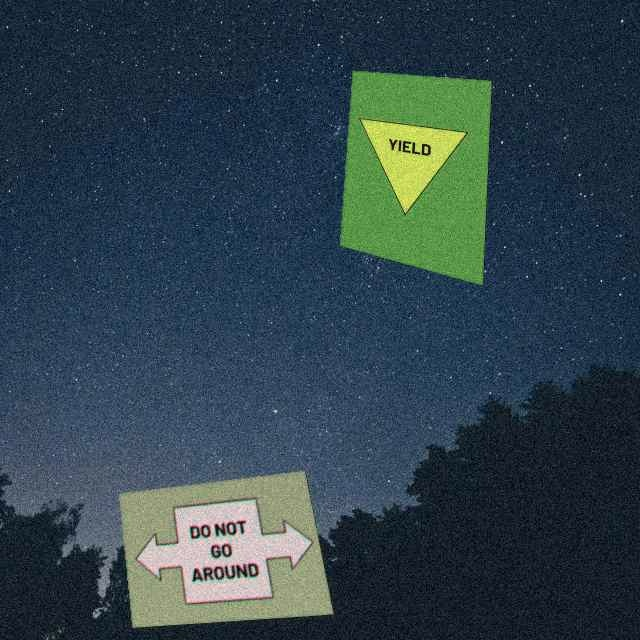DO_NOT_GO_AROUND: (130, 492, 324, 609)
YIELD: (352, 118, 471, 229)
